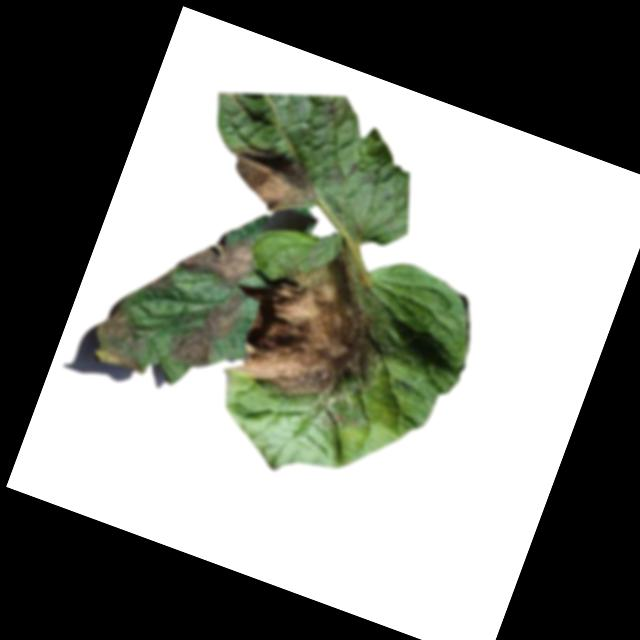Late_blight: (229, 228, 410, 421), (218, 134, 330, 224), (164, 275, 248, 378), (81, 295, 165, 380), (182, 219, 266, 295), (142, 262, 179, 299)
